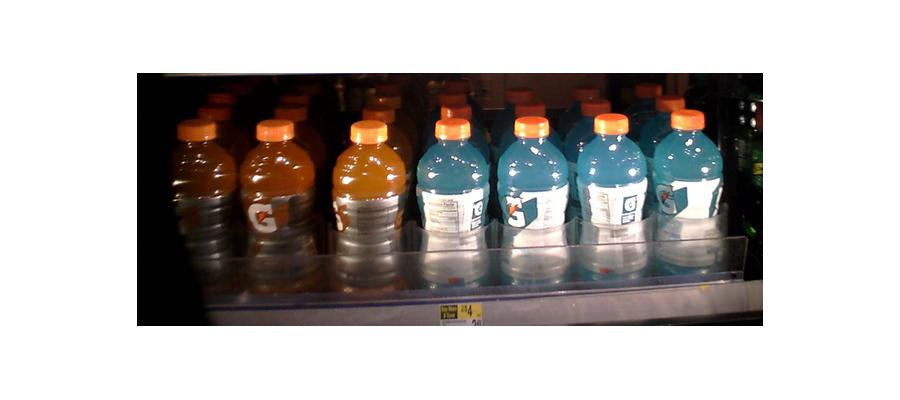bottle: (243, 119, 317, 301), (332, 122, 405, 302), (577, 113, 651, 288), (418, 114, 489, 295), (500, 114, 569, 294), (654, 107, 724, 284), (168, 119, 235, 302)
